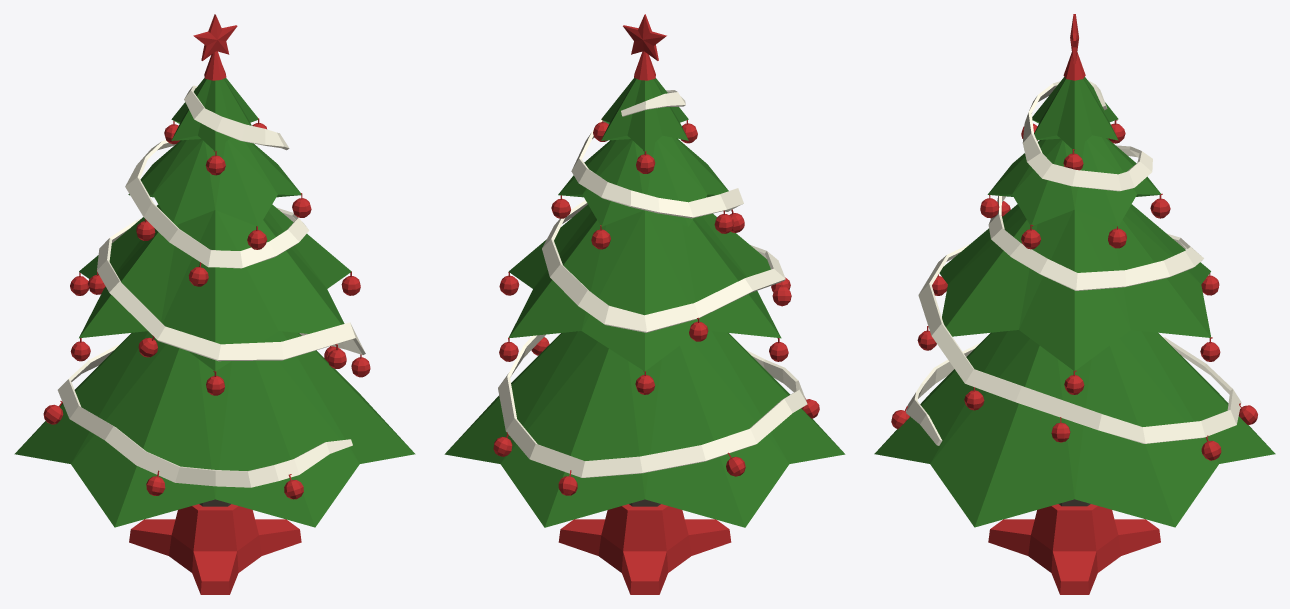
File: tree02.glb
The picture shows the model from 3 angles, left to right: view 1: azimuth 30°, elevation 25°; view 2: azimuth 150°, elevation 25°; view 3: azimuth 270°, elevation 25°; orthographic projection.
Visible parts, largest first — view 1: Tree Glow; view 2: Tree Glow; view 3: Tree Glow.
Boxes of the visible parts, <box> form: Tree Glow: <box>14,14,415,594</box>; Tree Glow: <box>444,14,845,594</box>; Tree Glow: <box>874,14,1275,594</box>.
Bounding box in the file's own units: 1.33 × 2.29 × 1.53.
